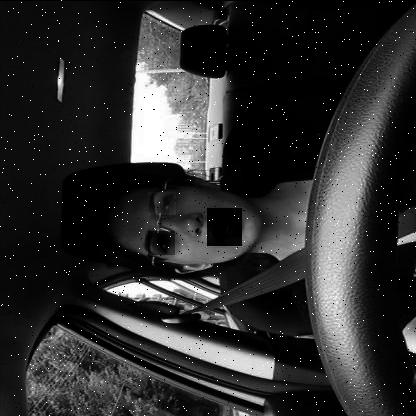seatbelt: (79, 138, 416, 304)
